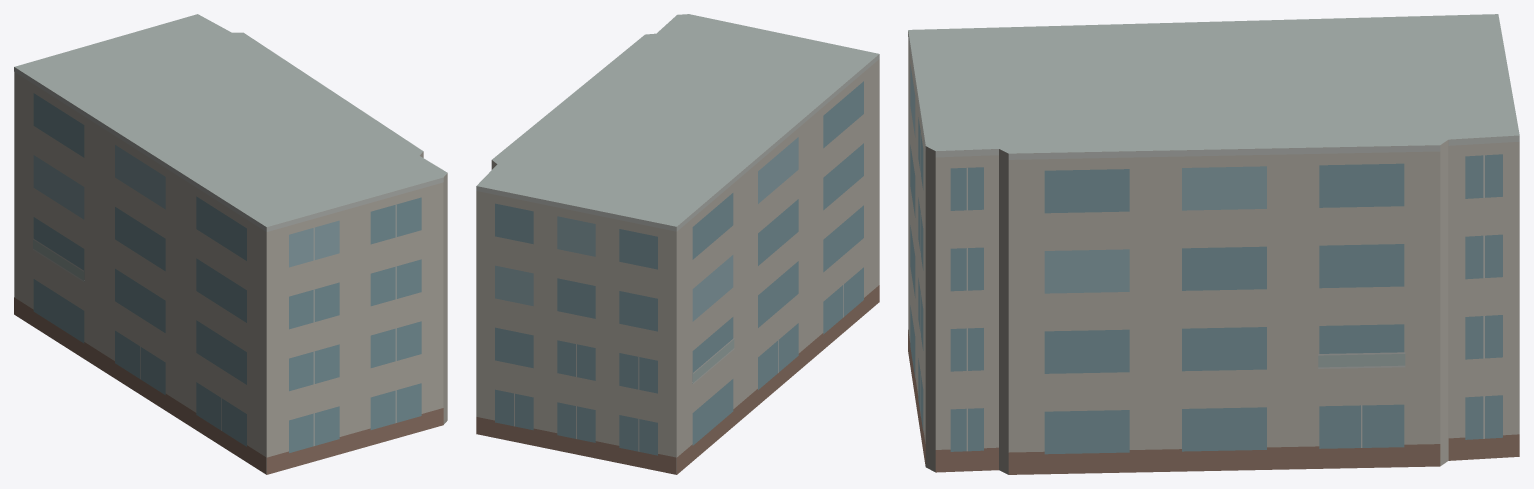
The model's file is survey-upis-32747354.glb.
3 renders of one model, left to right at view 1: azimuth 30°, elevation 25°; view 2: azimuth 150°, elevation 25°; view 3: azimuth 270°, elevation 25°, orthographic. The views are drawn at different scales.
Parts seen in each view (by area): view 1: survey-upis-32747354.tmp; view 2: survey-upis-32747354.tmp; view 3: survey-upis-32747354.tmp.
Part boxes in pixels (x1=…): survey-upis-32747354.tmp: x1=14, y1=14, x2=447, y2=474; survey-upis-32747354.tmp: x1=476, y1=14, x2=879, y2=474; survey-upis-32747354.tmp: x1=908, y1=14, x2=1519, y2=474.
Size of the model in its own units: 11.57 by 12.4 by 21.41.
